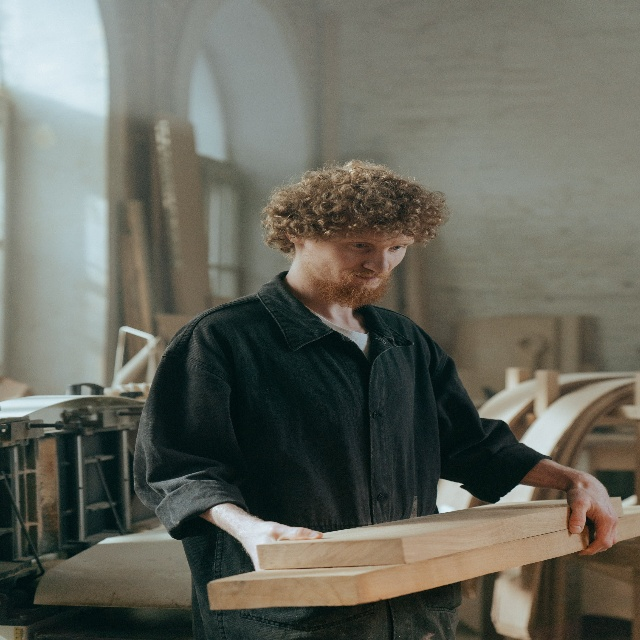Sin_guantes: (566, 464, 619, 561), (247, 515, 323, 571)
